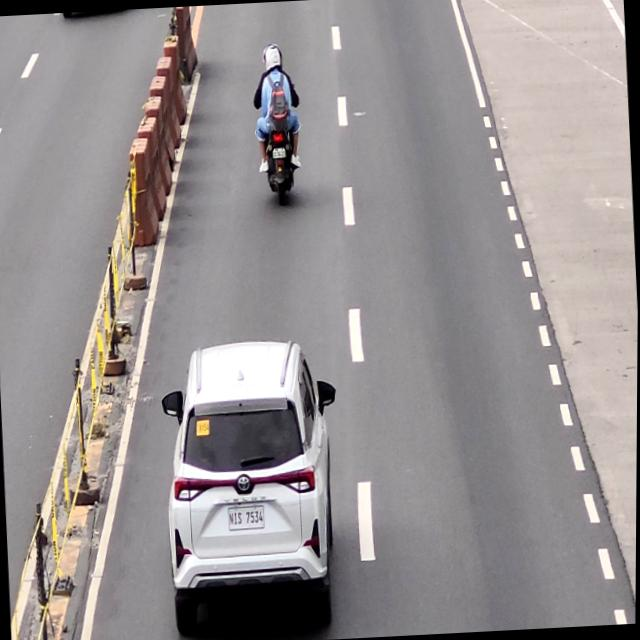Car: (156, 336, 349, 636)
License-Plate: (227, 506, 266, 528), (271, 148, 288, 160)
Motorcycle: (256, 89, 302, 209)
